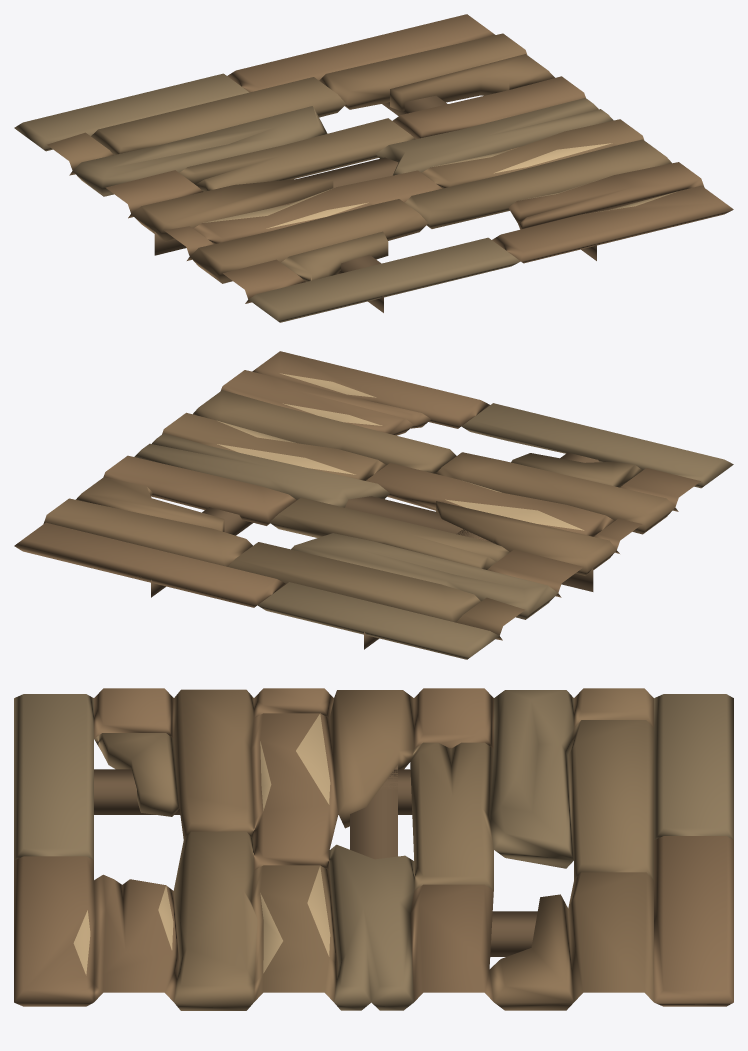
File: rpgpp_av_floor_01b_3x3_2side.gltf
The picture shows the model from 3 angles, top to bottom: view 1: azimuth 30°, elevation 25°; view 2: azimuth 150°, elevation 25°; view 3: azimuth 270°, elevation 25°; orthographic projection. The views are drawn at different scales.
Visible parts, largest first — view 1: rpgpp_av_floor_01b_3x3_2side; view 2: rpgpp_av_floor_01b_3x3_2side; view 3: rpgpp_av_floor_01b_3x3_2side.
Part boxes in pixels (x1=…): rpgpp_av_floor_01b_3x3_2side: x1=14, y1=14, x2=733, y2=322; rpgpp_av_floor_01b_3x3_2side: x1=14, y1=351, x2=733, y2=659; rpgpp_av_floor_01b_3x3_2side: x1=14, y1=688, x2=733, y2=1010.
Bounding box in the file's own units: 0.03 × 0.00215 × 0.03.
1 material, 1 textured.
